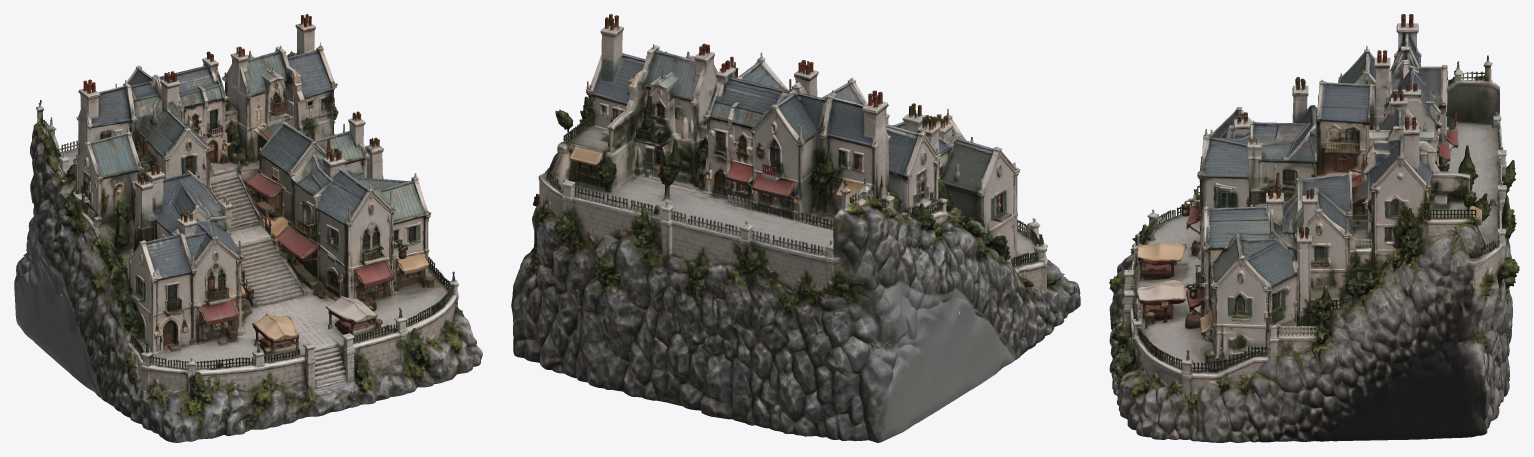
File: medieval_castle.glb
3 views of the same model, side by side, from view 1: azimuth 30°, elevation 25°; view 2: azimuth 150°, elevation 25°; view 3: azimuth 270°, elevation 25° (orthographic). The views are drawn at different scales.
Bounding box in the file's own units: 0.9801 × 0.7493 × 0.9574.
Materials: 1 (1 with a texture image).
